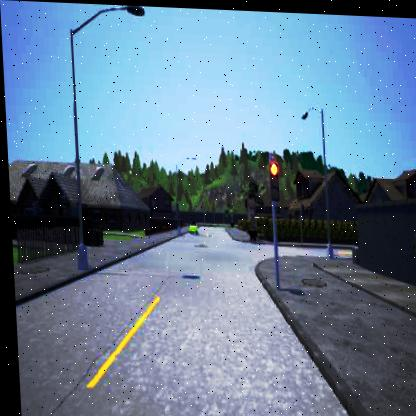vehicle: (185, 219, 196, 231)
